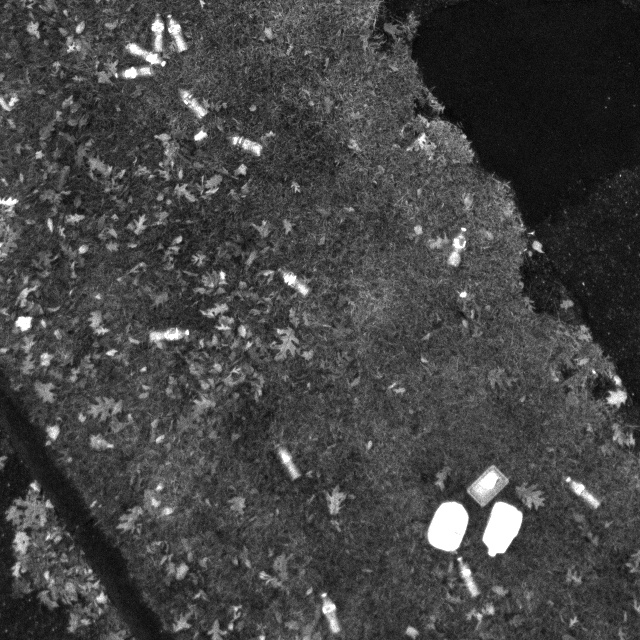bottle: (445, 558, 486, 603), (562, 473, 607, 510), (443, 226, 477, 269), (119, 38, 167, 68), (273, 436, 304, 481), (164, 6, 191, 54), (317, 588, 344, 636), (176, 85, 211, 119), (276, 265, 314, 296), (226, 130, 266, 156), (148, 9, 169, 57), (146, 322, 190, 344), (109, 60, 155, 81)
can: (472, 498, 531, 562), (421, 498, 476, 551)
container: (466, 462, 514, 508)
